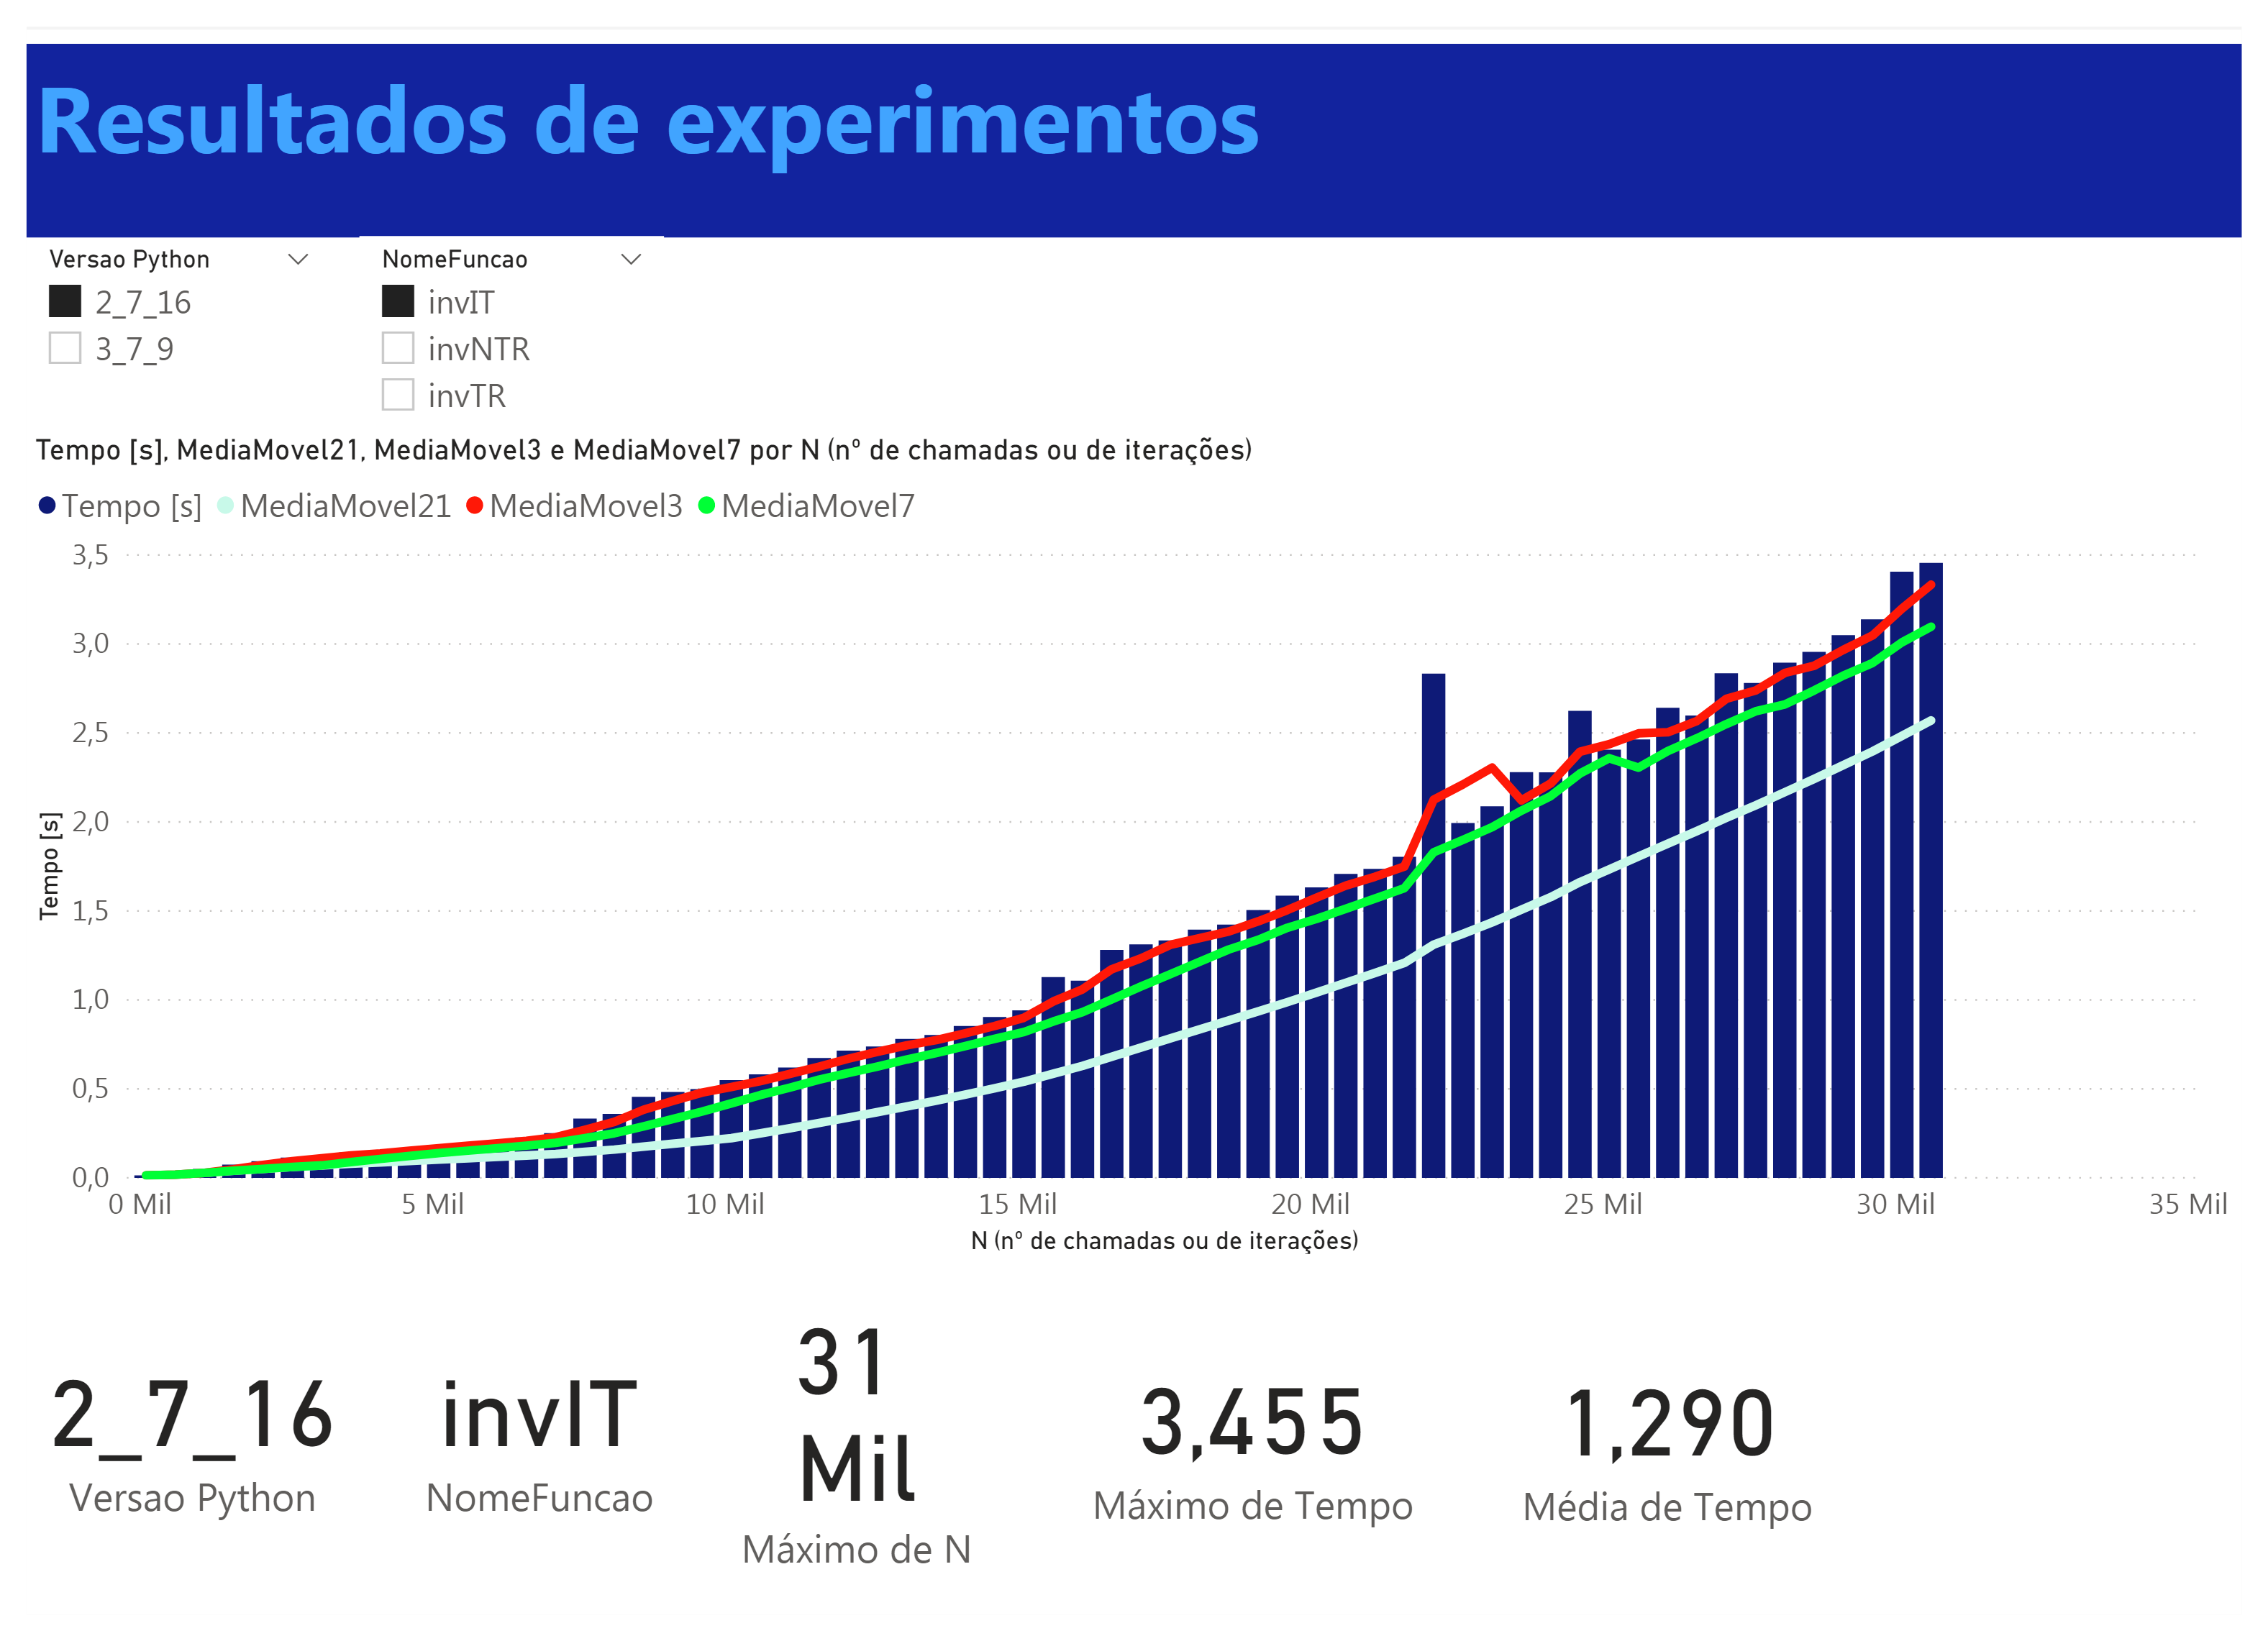

What the dashboard file says about the page in this screenshot:
{"tool":"powerbi","page":{"name":"Inverte string","canvas":[1280,900],"ordinal":2},"visuals":[{"type":"card","fields":{"Values":["Max(Tabela1.Tempo)"]},"box":[600,708,216,192],"z":0},{"type":"card","fields":{"Values":["Min(Tabela1.NomeFuncao)"]},"box":[192,704,208,192],"z":1000},{"type":"card","fields":{"Values":["Max(Tabela1.N)"]},"box":[400,704,160,192],"z":2000},{"type":"card","fields":{"Values":["Avg(Tabela1.Tempo)"]},"box":[840,720,216,168],"z":3000},{"type":"slicer","fields":{"Values":["Tabela1.Versao Python"]},"box":[0,112,176,112],"z":4000},{"type":"card","fields":{"Values":["Min(Tabela1.Versao Python)"]},"box":[0,704,192,192],"z":5000},{"type":"textbox","box":[0,0,1280,112],"z":6000},{"type":"slicer","fields":{"Values":["Tabela1.NomeFuncao"]},"box":[192,112,176,112],"z":7000},{"type":"lineClusteredColumnComboChart","fields":{"Y":["Sum(Tabela1.Tempo)"],"Category":["Tabela1.N"],"Y2":["Tabela1.MediaMovel21","Tabela1.MediaMovel3","Tabela1.MediaMovel7"]},"box":[0,224,1280,480],"z":8000}]}

Visuals, with their boxes in screenshot pixels (x1, y1, x2, y2), scaled from the page's 1280x900 canvas onto the 2268x1641 screenshot:
card - Max(Tabela1.Tempo): crop(1063, 1291, 1446, 1640)
card - Min(Tabela1.NomeFuncao): crop(340, 1284, 709, 1634)
card - Max(Tabela1.N): crop(709, 1284, 992, 1634)
card - Avg(Tabela1.Tempo): crop(1488, 1313, 1871, 1619)
slicer - Tabela1.Versao Python: crop(0, 204, 312, 408)
card - Min(Tabela1.Versao Python): crop(0, 1284, 340, 1634)
textbox: crop(0, 0, 2267, 204)
slicer - Tabela1.NomeFuncao: crop(340, 204, 652, 408)
lineClusteredColumnComboChart - Sum(Tabela1.Tempo) x Tabela1.N: crop(0, 408, 2267, 1284)
